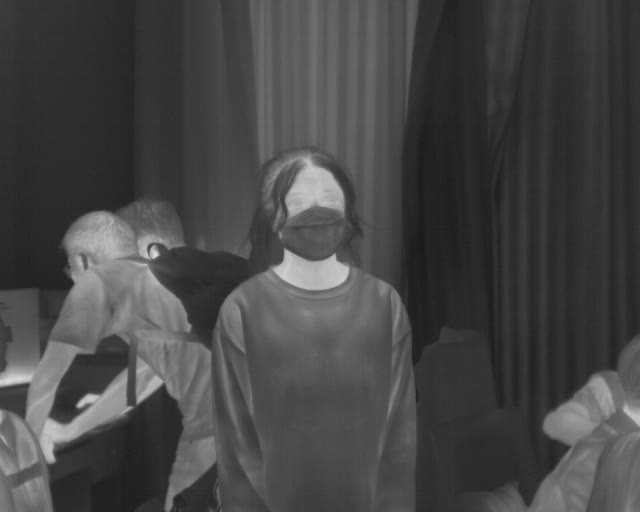face: (260, 146, 354, 262)
